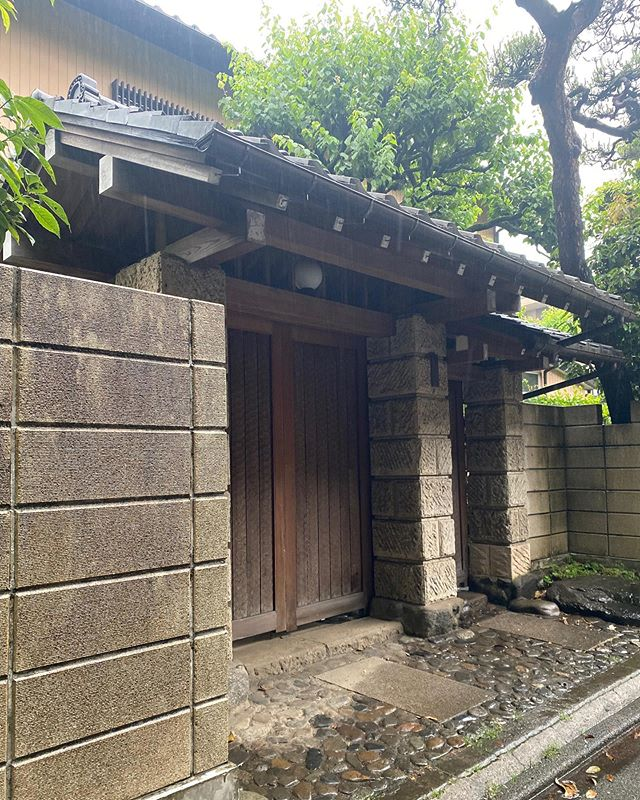building: (1, 37, 534, 800)
tree: (225, 8, 529, 244)
